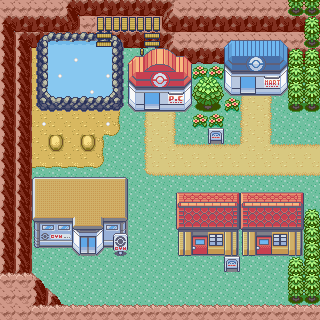gym: (32, 175, 131, 258)
normal_house: (174, 190, 241, 259), (241, 190, 306, 261)
pokemart: (223, 39, 289, 99)
pokemon_center: (127, 47, 194, 114)
